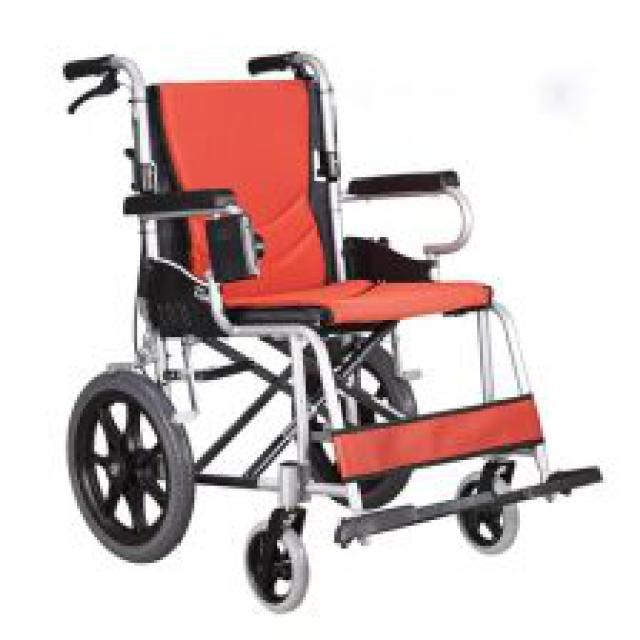wheelchair: (14, 39, 617, 612)
